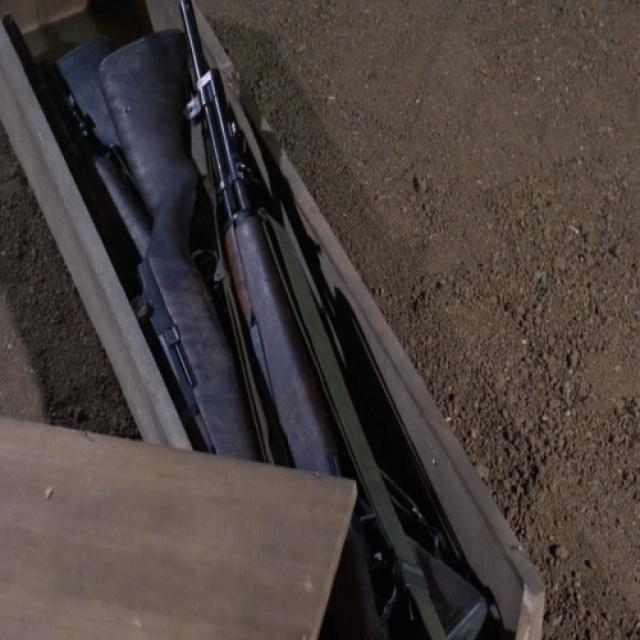rifle: (175, 2, 492, 640)
